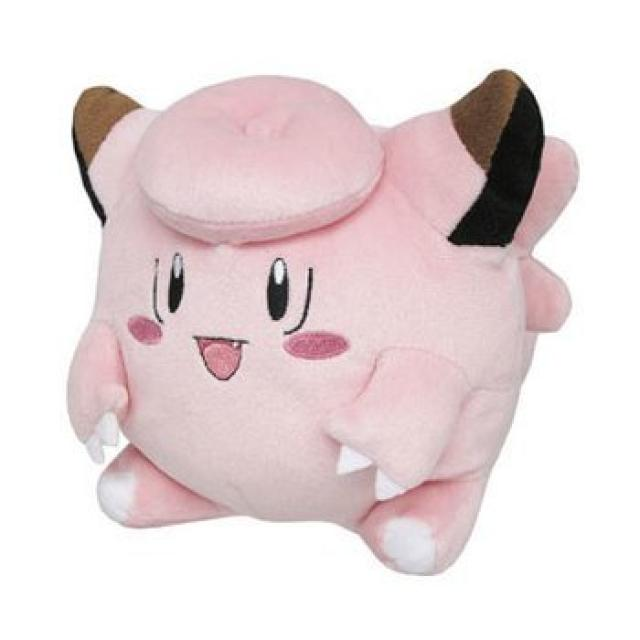Clefairy: (70, 74, 569, 537)
